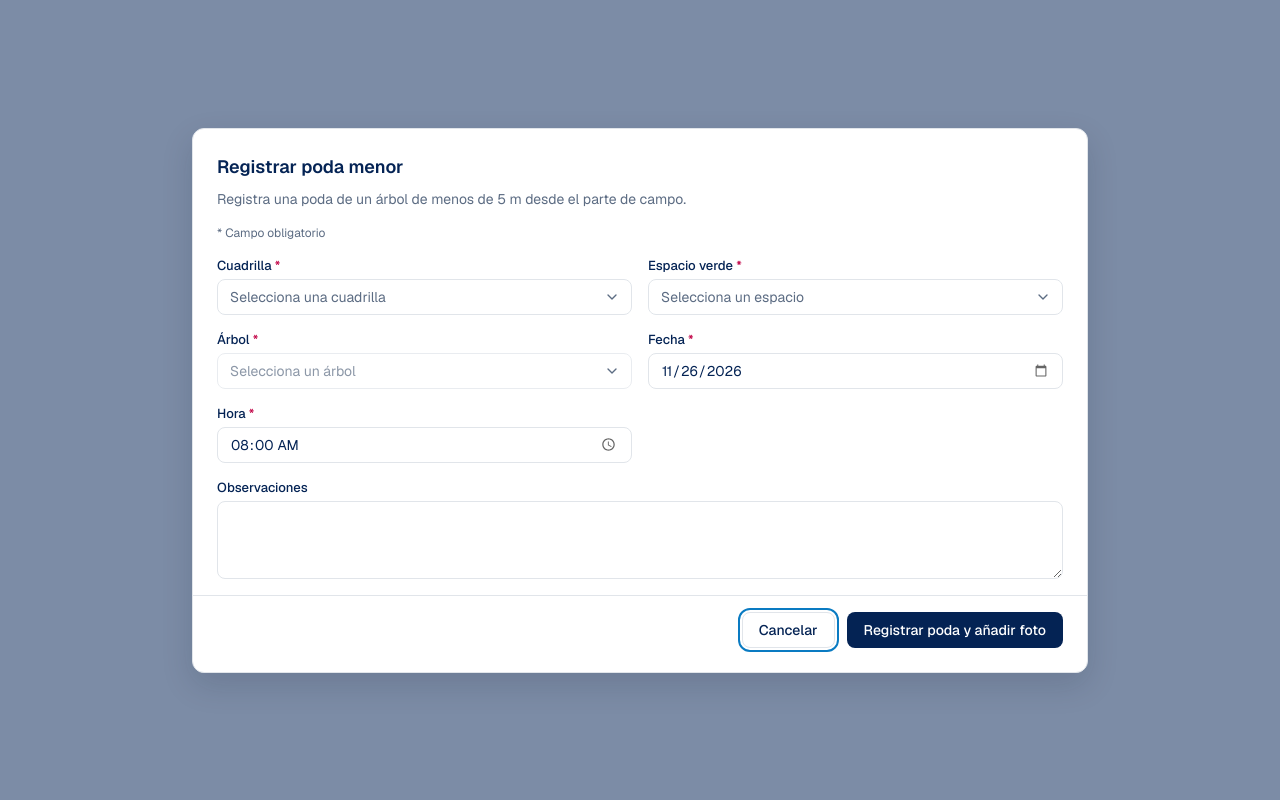
DialogoPodaMenor › registra sobre el espacio y deja pendiente un árbol sin catastro
Later steps or results of the test are not shown.
Select "Cuadrilla 1" in the dropdown labelled "Cuadrilla *" at coordinates (424, 296), box [217,278,632,314]
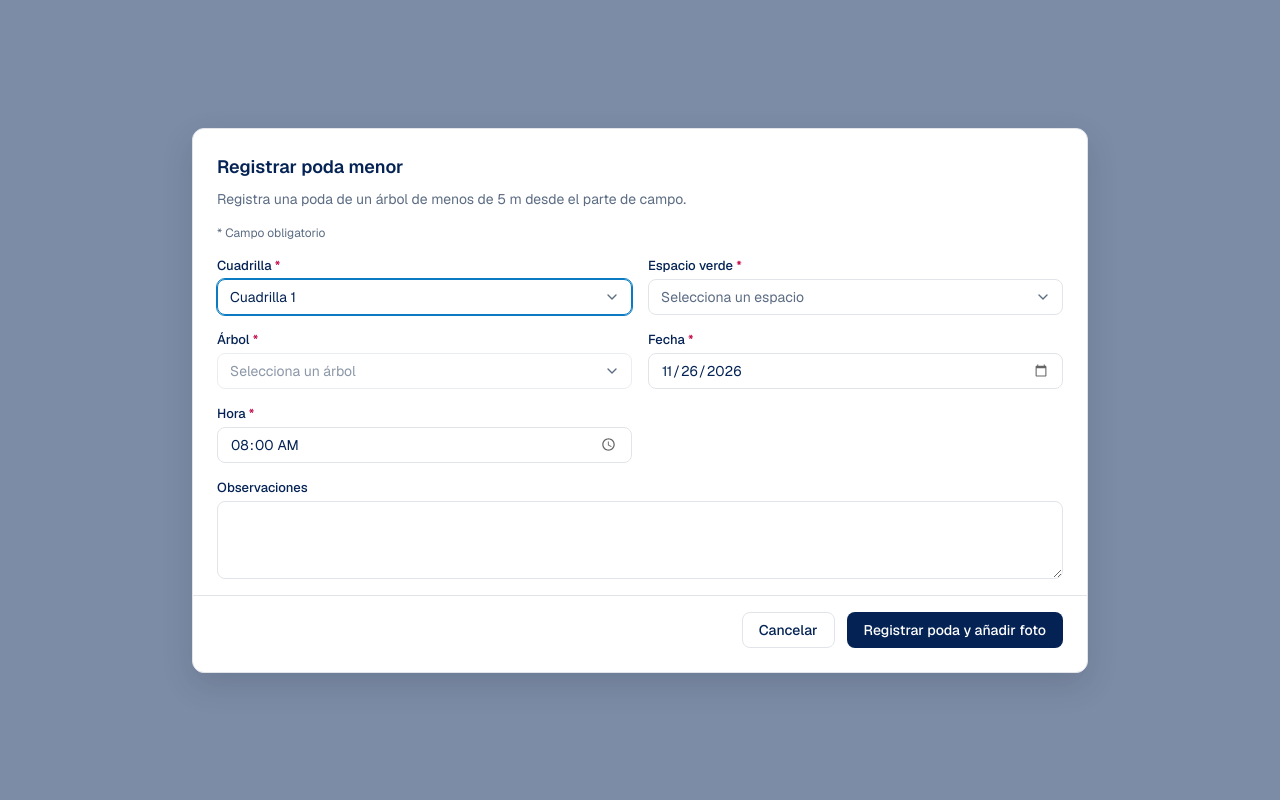
Select "Jardín A" in the dropdown labelled "Espacio verde *" at coordinates (856, 296), box [648,278,1063,314]
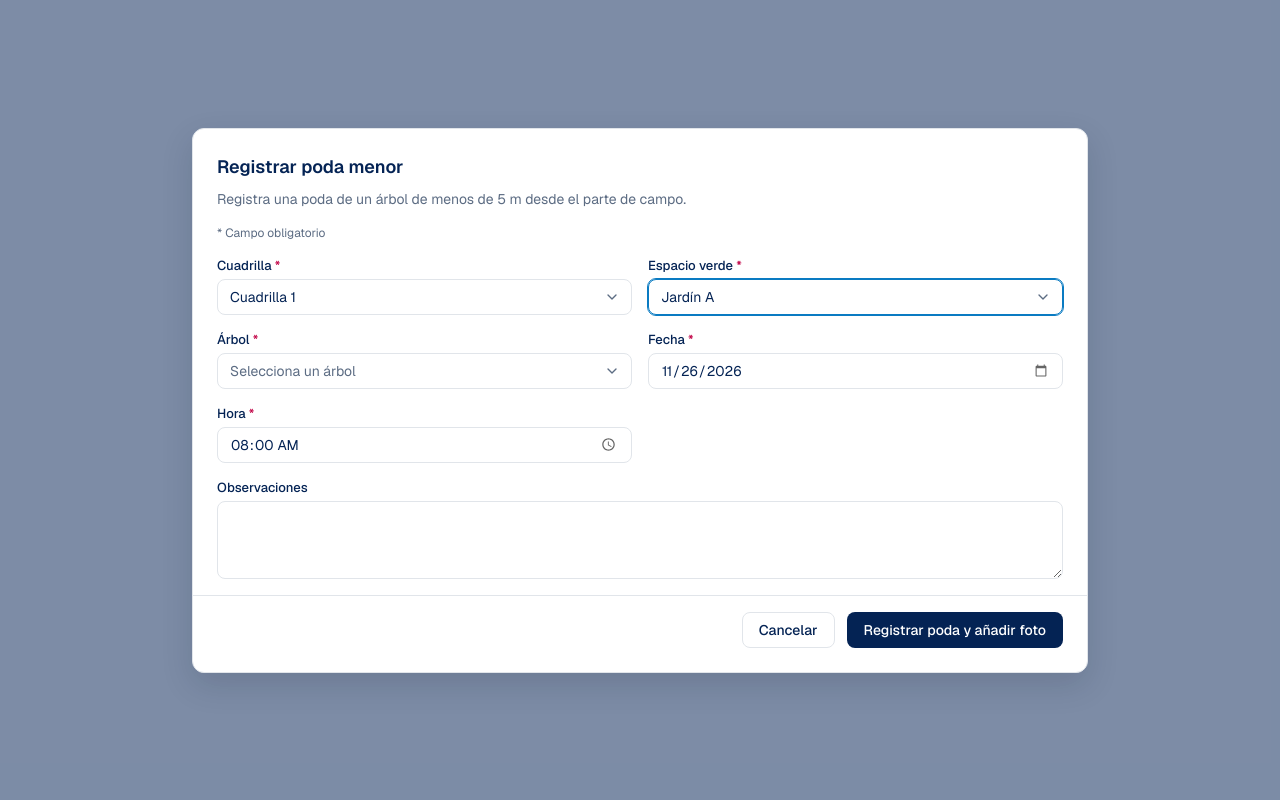
Select "Árbol no registrado en el catastro" in the dropdown labelled "Árbol *" at coordinates (424, 370), box [217,352,632,388]
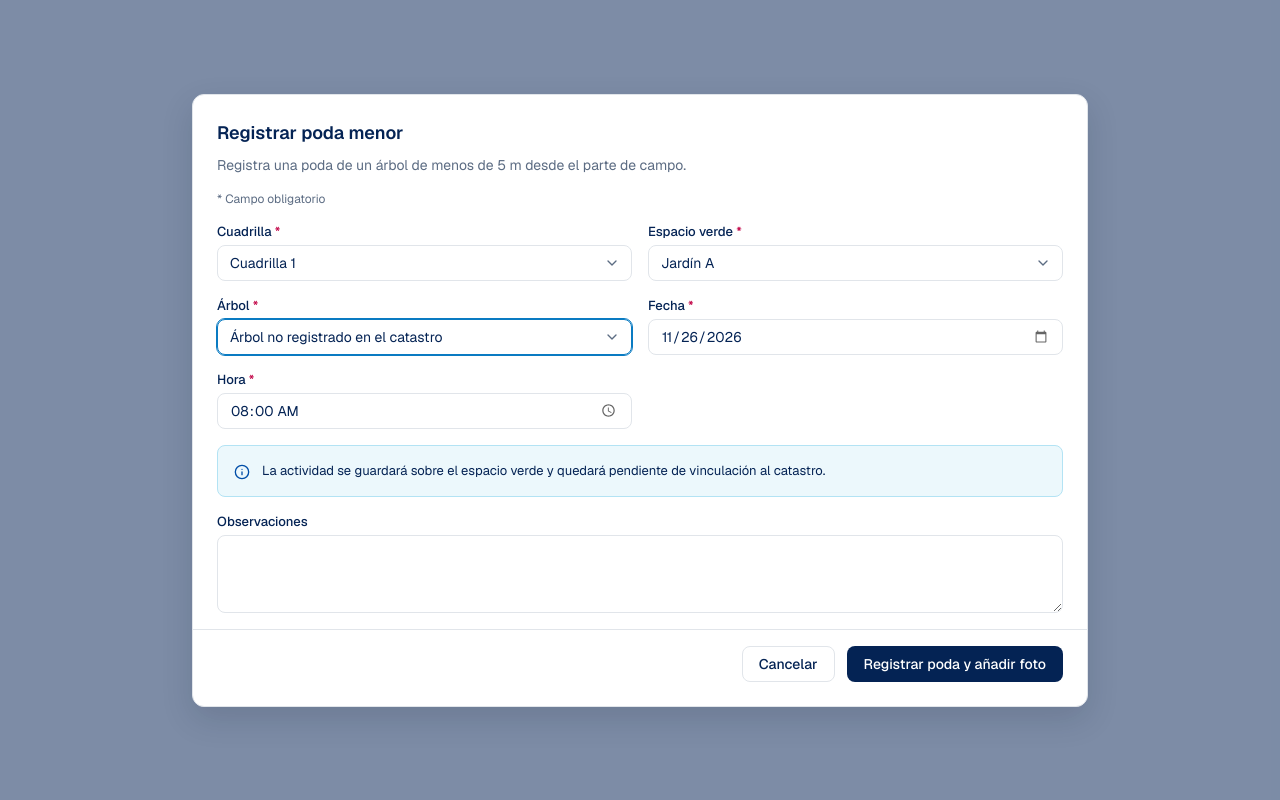
Check: the text "pendiente de vinculación al catastro" is shown, box [262,462,825,478]
